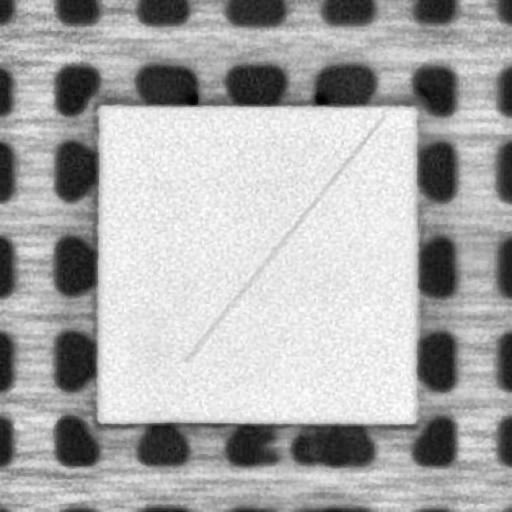DIE_CRACK: (182, 111, 386, 358)
